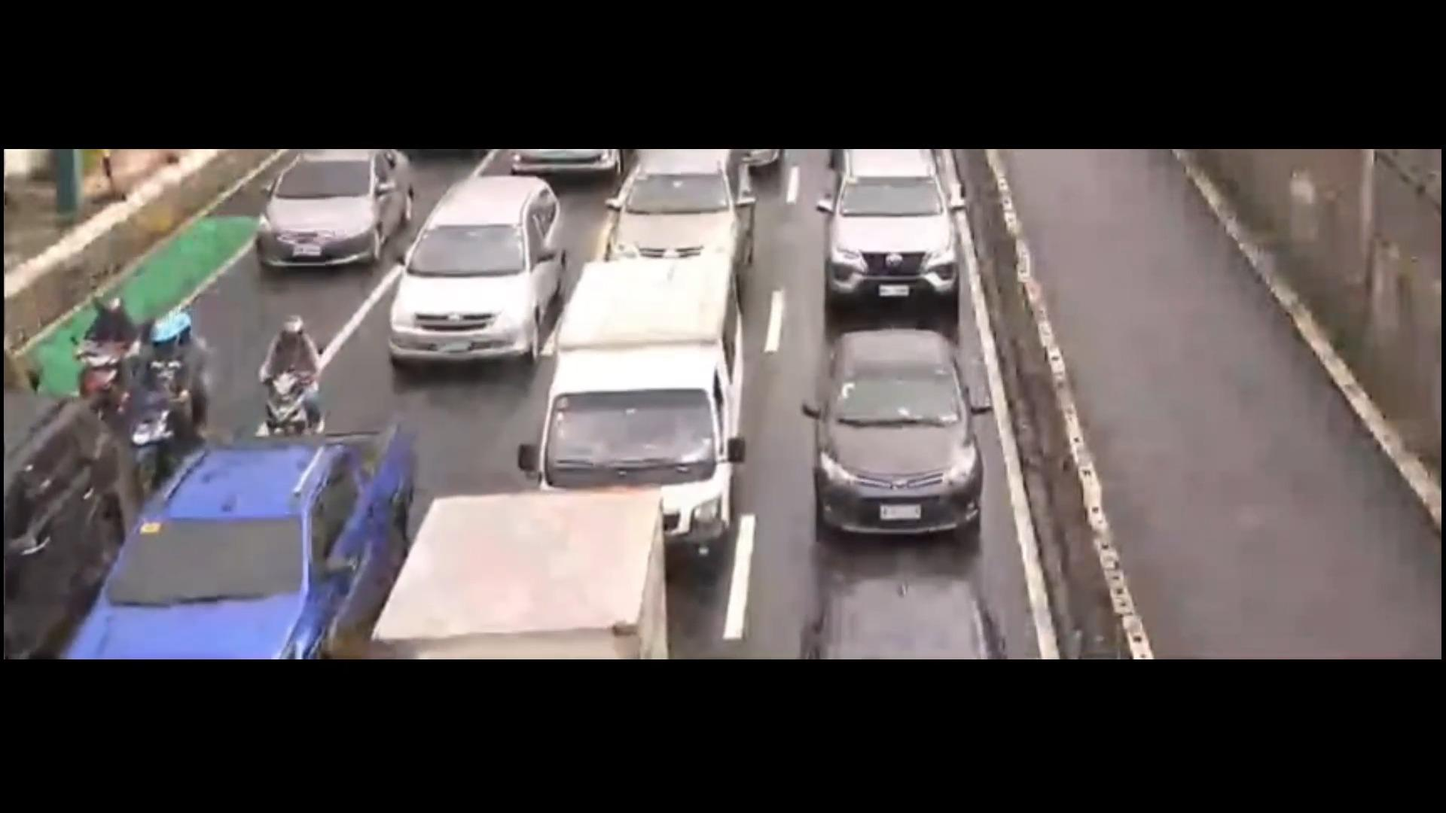Motorcycle: (122, 305, 215, 495), (249, 312, 337, 455), (70, 279, 143, 427)
Multicab: (529, 256, 742, 548)
SUV: (58, 420, 422, 655), (386, 179, 563, 365), (0, 393, 120, 657), (604, 147, 768, 322), (823, 154, 958, 305)
Sedan: (800, 322, 981, 550), (252, 154, 418, 273)
Truck: (348, 484, 687, 657)
